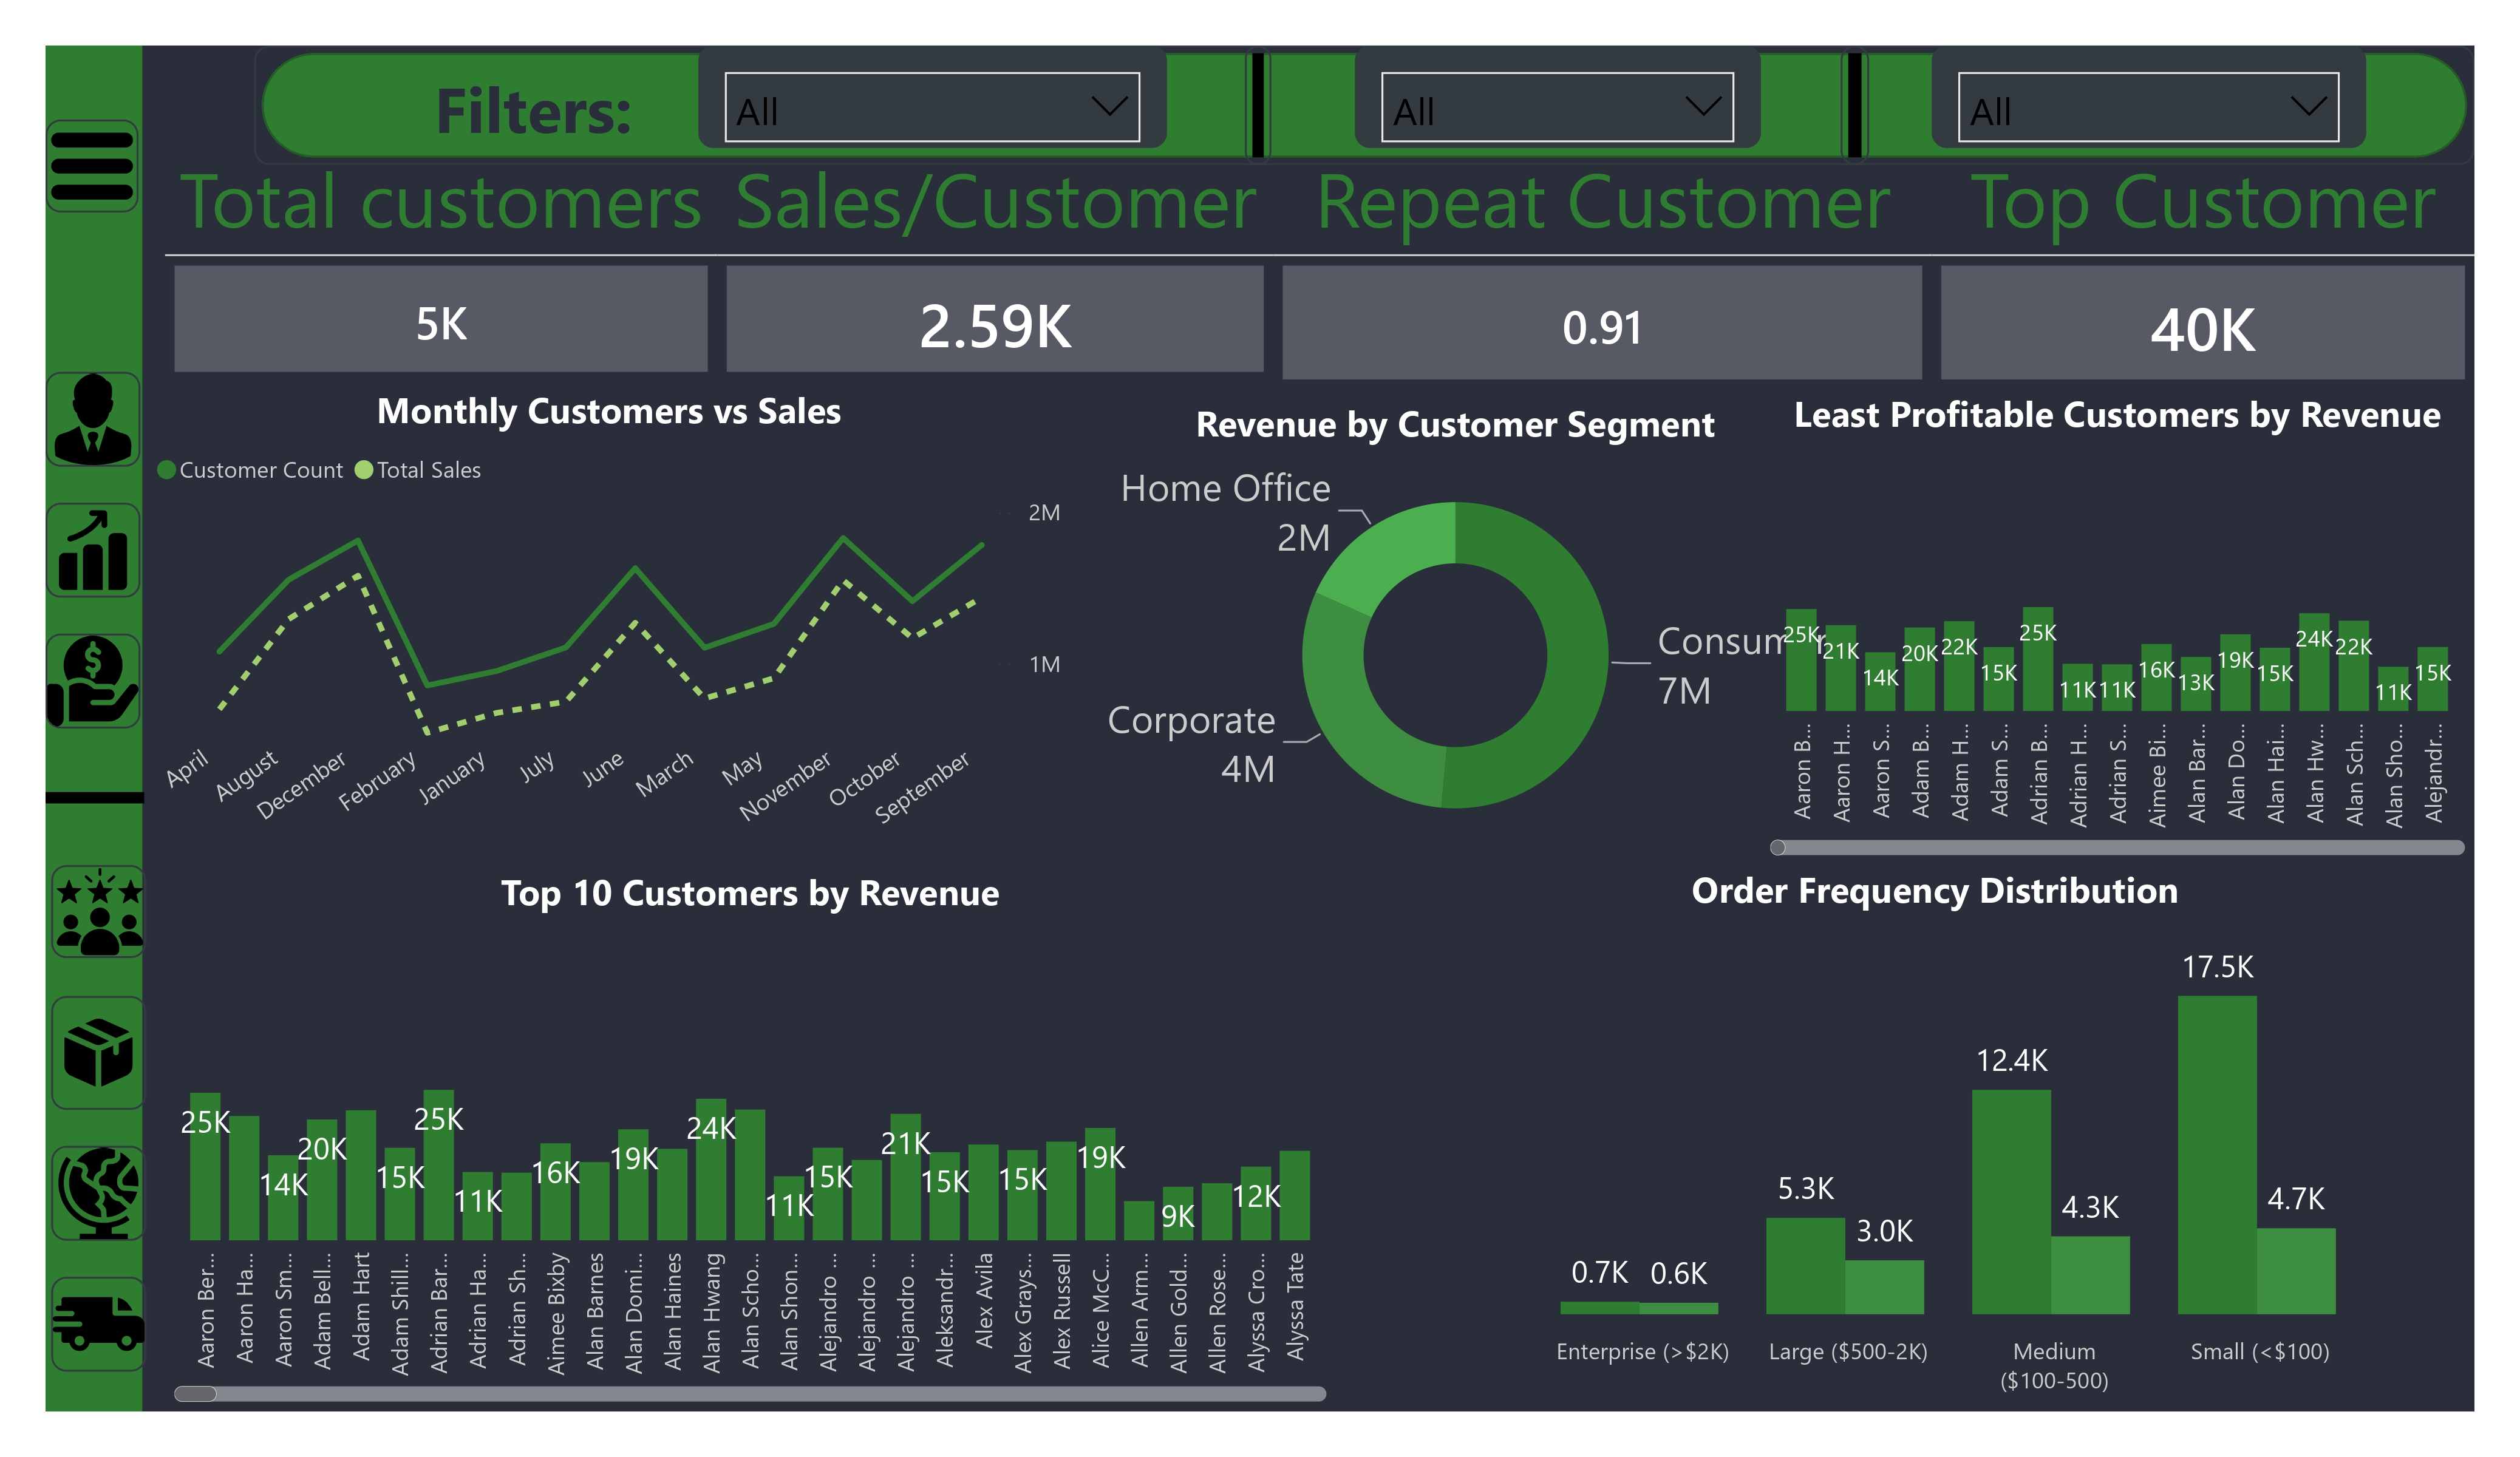

This screenshot's page, from the dashboard's own definition file:
{"tool":"powerbi","page":{"name":"Customers","canvas":[1280,720],"ordinal":4},"visuals":[{"type":"group","id":"g1","title":"side bar collapsed","box":[0,0,52.7,720.4],"z":0},{"type":"shape","box":[0,0,50.6,720.4],"z":0,"group":"g1"},{"type":"shape","box":[110.3,0,1169.7,62.6],"z":0,"group":"g2"},{"type":"group","id":"g2","title":"title slicer","box":[110.3,0,1169.7,62.6],"z":1000},{"type":"slicer","fields":{"Values":["orders.Market2"]},"box":[344.2,0,247.4,53.6],"z":1000,"group":"g2"},{"type":"image","box":[0,241.4,49.8,49.8],"z":1000,"group":"g1"},{"type":"slicer","fields":{"Values":["DateTable.Year"]},"box":[690,0,214.6,53.6],"z":2000,"group":"g2"},{"type":"cardVisual","title":"Total customers","fields":{"Data":["_Measures.Customer Count"]},"box":[63.4,53.3,290.9,123.8],"z":2000},{"type":"image","box":[0,310.5,49.8,49.8],"z":2000,"group":"g1"},{"type":"slicer","fields":{"Values":["orders.Segment"]},"box":[993.9,0,229.5,53.6],"z":3000,"group":"g2"},{"type":"cardVisual","title":"Sales/Customer","fields":{"Data":["_Measures.Sales per Customer"]},"box":[354.2,53.3,292.3,123.8],"z":3000},{"type":"image","box":[3,431.6,49.8,49.8],"z":3000,"group":"g1"},{"type":"shape","box":[186.3,3,141.6,56.6],"z":4000,"group":"g2"},{"type":"cardVisual","title":"Repeat Customer","fields":{"Data":["_Measures.Repeat Customer %"]},"box":[646.6,53.3,347,128.2],"z":4000},{"type":"image","box":[3,500.6,49.8,60],"z":4000,"group":"g1"},{"type":"shape","box":[631.8,0,14.9,62.6],"z":5000,"group":"g2"},{"type":"cardVisual","title":"Top Customer","fields":{"Data":["_Measures.Top Customer Sales"]},"box":[993.6,53.3,286.6,128.2],"z":5000},{"type":"image","box":[3,579.9,49.8,49.8],"z":5000,"group":"g1"},{"type":"shape","box":[946.2,0,14.9,62.6],"z":6000,"group":"g2"},{"type":"image","box":[0,38.7,49.1,49.1],"z":6000,"group":"g1"},{"type":"donutChart","title":"Revenue by Customer Segment","fields":{"Y":["_Measures.Total Sales"],"Category":["orders.Segment"]},"box":[541.4,185.8,403.2,246.2],"z":6000},{"type":"image","box":[0,172.4,49.8,49.8],"z":7000,"group":"g1"},{"type":"lineChart","title":"Monthly Customers vs Sales","fields":{"Category":["DateTable.Month Name"],"Y":["_Measures.Customer Count"],"Y2":["_Measures.Total Sales"]},"box":[53.3,178.6,488.2,254.9],"z":7000},{"type":"columnChart","title":"Least Profitable  Customers by Revenue","fields":{"Category":["orders.Customer.Name"],"Y":["_Measures.Total Sales"]},"box":[904.3,181.4,375.8,250.6],"z":8000},{"type":"shape","box":[0,385.5,52.1,22.3],"z":8000,"group":"g1"},{"type":"image","box":[3,648.9,49.8,49.8],"z":9000,"group":"g1"},{"type":"clusteredColumnChart","title":"Order Frequency Distribution","fields":{"Y":["_Measures.Order Count","_Measures.Customer Count"],"Category":["orders.Order Size Band"]},"box":[733,432,525.6,288],"z":10000},{"type":"columnChart","title":"Top 10 Customers by Revenue","fields":{"Category":["orders.Customer.Name"],"Y":["_Measures.Total Sales"]},"box":[63.4,433.4,616.3,286.6],"z":11001}]}

Visuals, with their boxes on the page's 1280x720 design canvas (x1, y1, x2, y2). These are canvas units, not pixel positions in the 2520x1457 screenshot, which may show the page scaled, cropped or inside an application window:
"side bar collapsed" group: {"left": 0, "top": 0, "right": 53, "bottom": 720}
shape: {"left": 0, "top": 0, "right": 51, "bottom": 720}
shape: {"left": 110, "top": 0, "right": 1280, "bottom": 63}
"title slicer" group: {"left": 110, "top": 0, "right": 1280, "bottom": 63}
slicer - orders.Market2: {"left": 344, "top": 0, "right": 592, "bottom": 54}
image: {"left": 0, "top": 241, "right": 50, "bottom": 291}
slicer - DateTable.Year: {"left": 690, "top": 0, "right": 905, "bottom": 54}
"Total customers" cardVisual: {"left": 63, "top": 53, "right": 354, "bottom": 177}
image: {"left": 0, "top": 310, "right": 50, "bottom": 360}
slicer - orders.Segment: {"left": 994, "top": 0, "right": 1223, "bottom": 54}
"Sales/Customer" cardVisual: {"left": 354, "top": 53, "right": 646, "bottom": 177}
image: {"left": 3, "top": 432, "right": 53, "bottom": 481}
shape: {"left": 186, "top": 3, "right": 328, "bottom": 60}
"Repeat Customer" cardVisual: {"left": 647, "top": 53, "right": 994, "bottom": 182}
image: {"left": 3, "top": 501, "right": 53, "bottom": 561}
shape: {"left": 632, "top": 0, "right": 647, "bottom": 63}
"Top Customer" cardVisual: {"left": 994, "top": 53, "right": 1280, "bottom": 182}
image: {"left": 3, "top": 580, "right": 53, "bottom": 630}
shape: {"left": 946, "top": 0, "right": 961, "bottom": 63}
image: {"left": 0, "top": 39, "right": 49, "bottom": 88}
"Revenue by Customer Segment" donutChart: {"left": 541, "top": 186, "right": 945, "bottom": 432}
image: {"left": 0, "top": 172, "right": 50, "bottom": 222}
"Monthly Customers vs Sales" lineChart: {"left": 53, "top": 179, "right": 542, "bottom": 434}
"Least Profitable  Customers by Revenue" columnChart: {"left": 904, "top": 181, "right": 1280, "bottom": 432}
shape: {"left": 0, "top": 386, "right": 52, "bottom": 408}
image: {"left": 3, "top": 649, "right": 53, "bottom": 699}
"Order Frequency Distribution" clusteredColumnChart: {"left": 733, "top": 432, "right": 1259, "bottom": 720}
"Top 10 Customers by Revenue" columnChart: {"left": 63, "top": 433, "right": 680, "bottom": 720}
